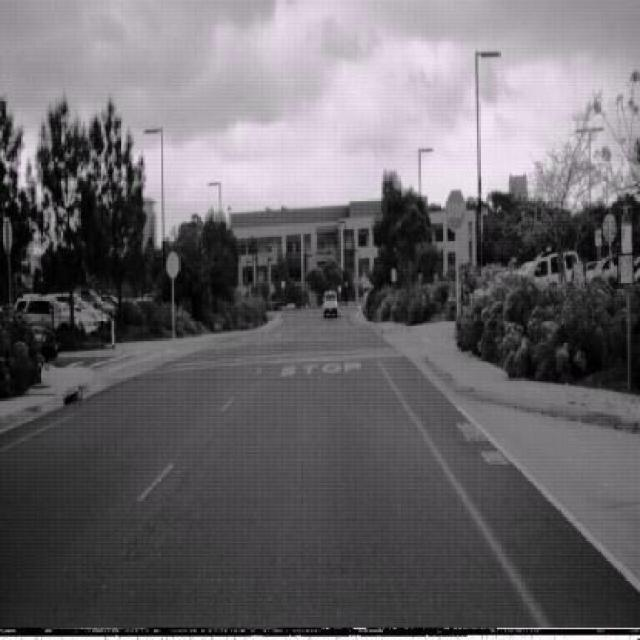stop: (445, 188, 466, 232)
